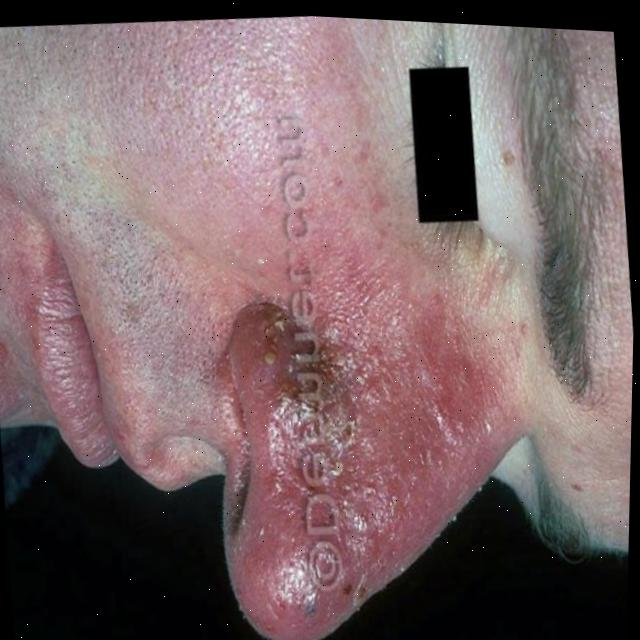Rosacea: (131, 7, 453, 348), (219, 302, 530, 640), (0, 150, 36, 438)
